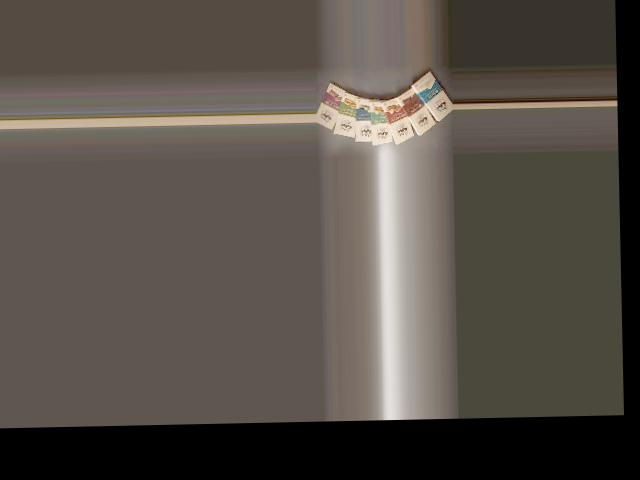chocolate: (410, 67, 452, 123)
